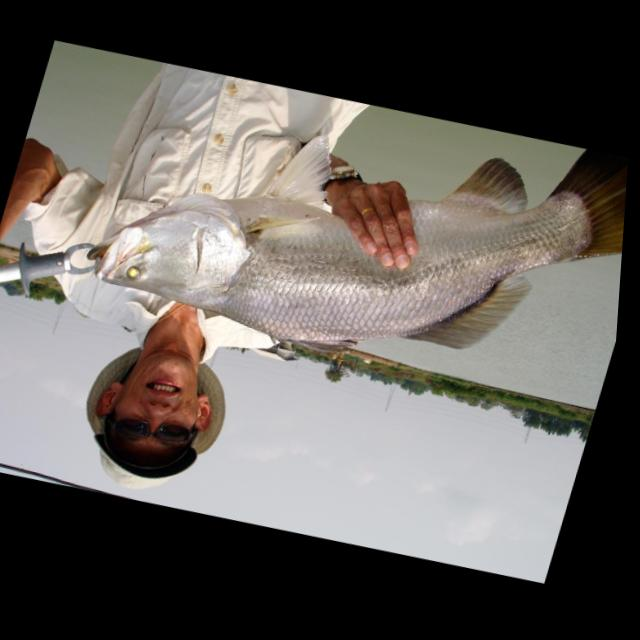Seabass: (68, 43, 636, 419)
